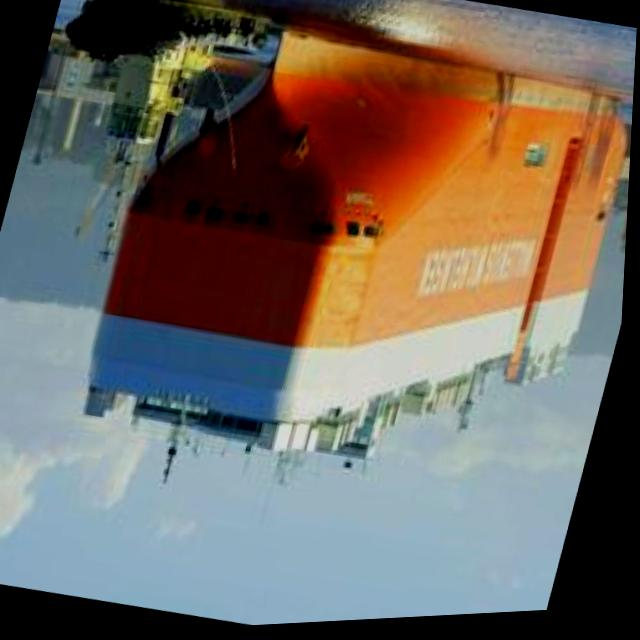ship2: (89, 31, 629, 488)
